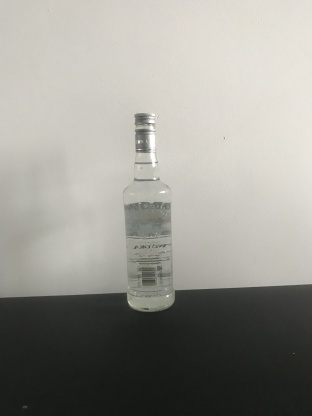nakretka: (132, 111, 157, 153)
